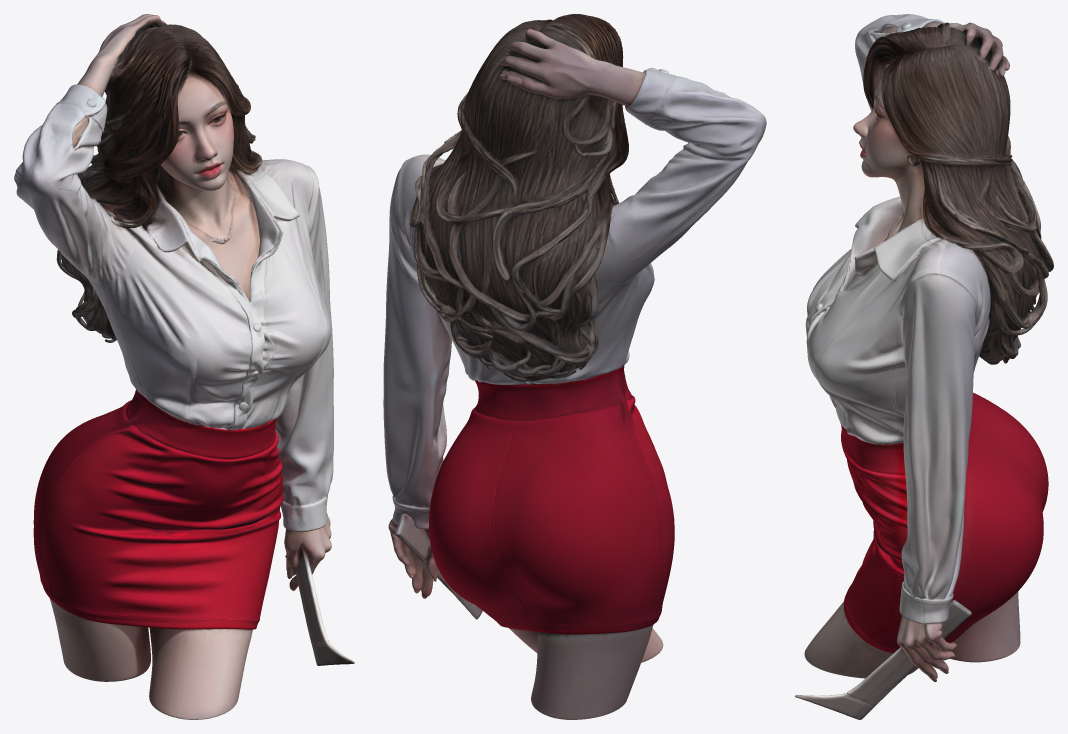
Rendered from companion.glb.
3 views of the same model, side by side, from view 1: azimuth 30°, elevation 25°; view 2: azimuth 150°, elevation 25°; view 3: azimuth 270°, elevation 25° (orthographic). The views are drawn at different scales.
Parts seen in each view (by area): view 1: tripo_node_52bcd43b-0b1a-4a9a-82e8-eeb4d659ed4d; view 2: tripo_node_52bcd43b-0b1a-4a9a-82e8-eeb4d659ed4d; view 3: tripo_node_52bcd43b-0b1a-4a9a-82e8-eeb4d659ed4d.
Part boxes in pixels (x1=…): tripo_node_52bcd43b-0b1a-4a9a-82e8-eeb4d659ed4d: x1=14, y1=14, x2=354, y2=719; tripo_node_52bcd43b-0b1a-4a9a-82e8-eeb4d659ed4d: x1=383, y1=14, x2=766, y2=719; tripo_node_52bcd43b-0b1a-4a9a-82e8-eeb4d659ed4d: x1=795, y1=14, x2=1053, y2=719.
Size of the model in its own units: 0.5348 by 0.9784 by 0.3613.
1 material, 1 textured.
